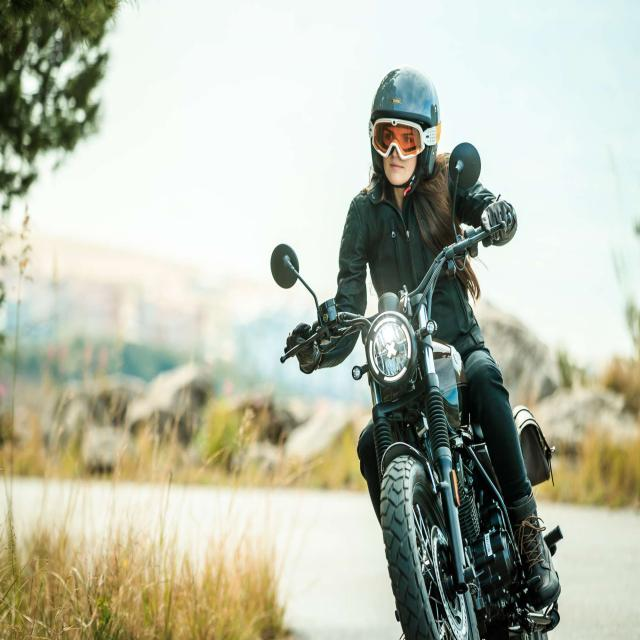3-4-helmet: (370, 63, 441, 177)
